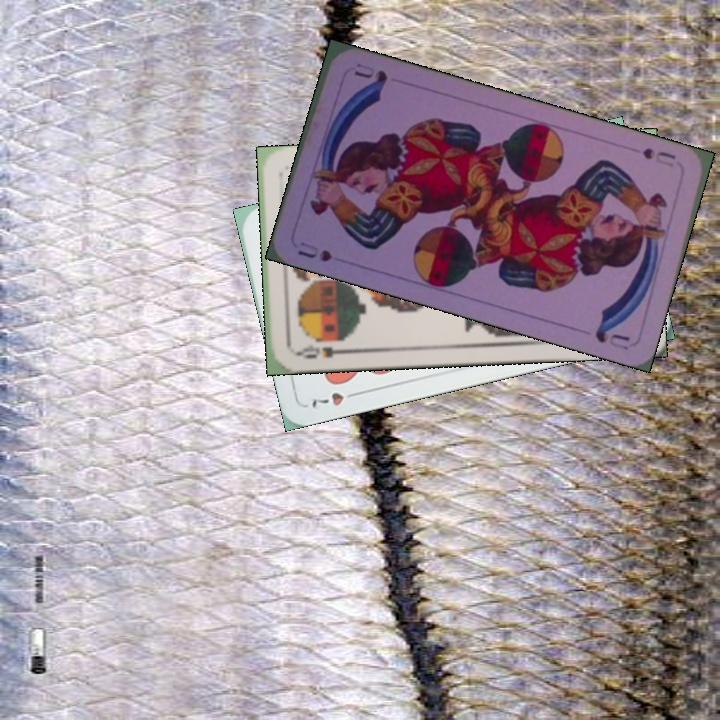H7: (306, 387, 363, 411)
SO: (291, 340, 350, 362)
SU: (293, 237, 335, 264), (638, 144, 679, 170)
